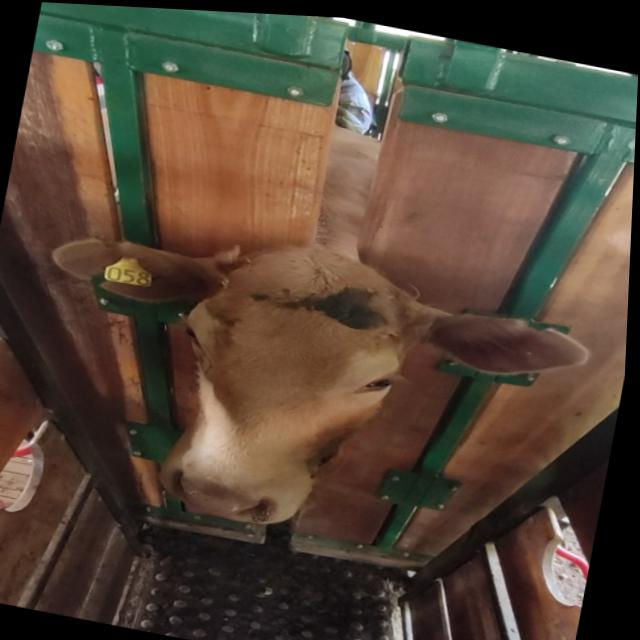cowFace: (152, 226, 423, 546)
